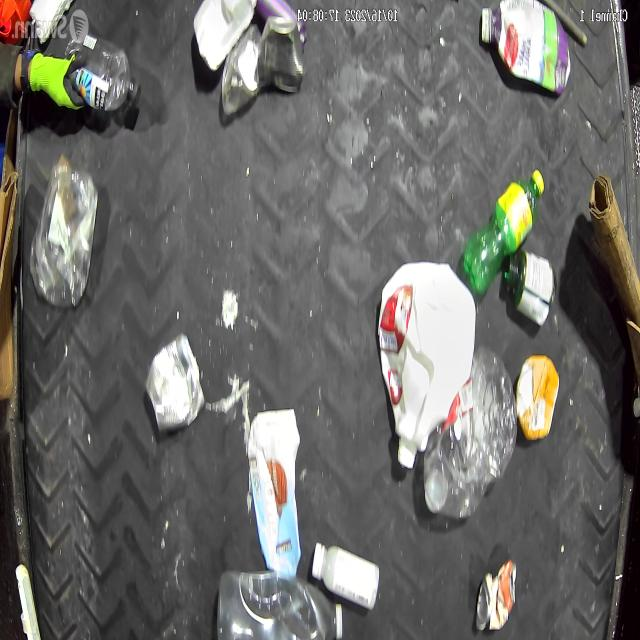can: (146, 332, 202, 432), (257, 16, 309, 87), (472, 559, 522, 631)
milk_jug: (383, 254, 476, 468)
non_white_jug: (480, 1, 573, 92)
plastic_bottle: (423, 350, 517, 510), (464, 168, 546, 296), (213, 574, 348, 640), (68, 26, 138, 117)
